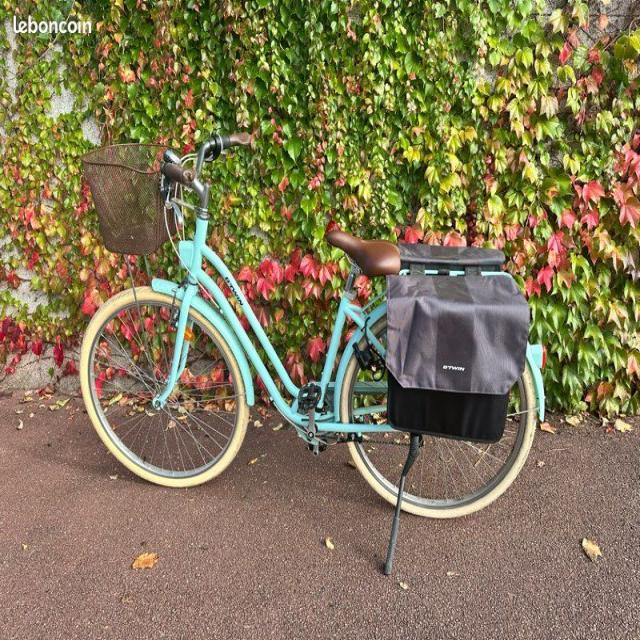Bike: (82, 133, 544, 574)
